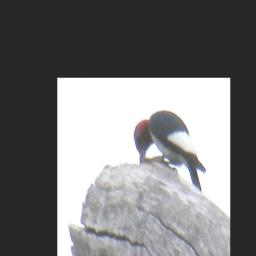Woodpecker: (130, 107, 209, 194)
